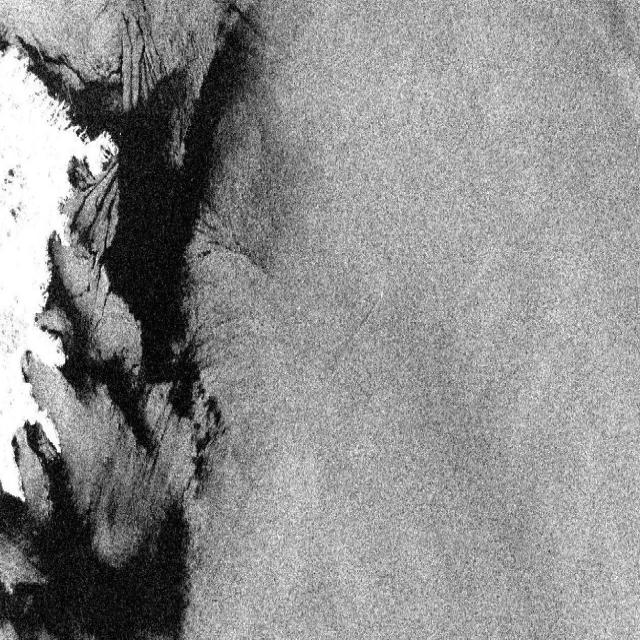look-alike: (67, 47, 237, 461), (6, 443, 194, 640)
